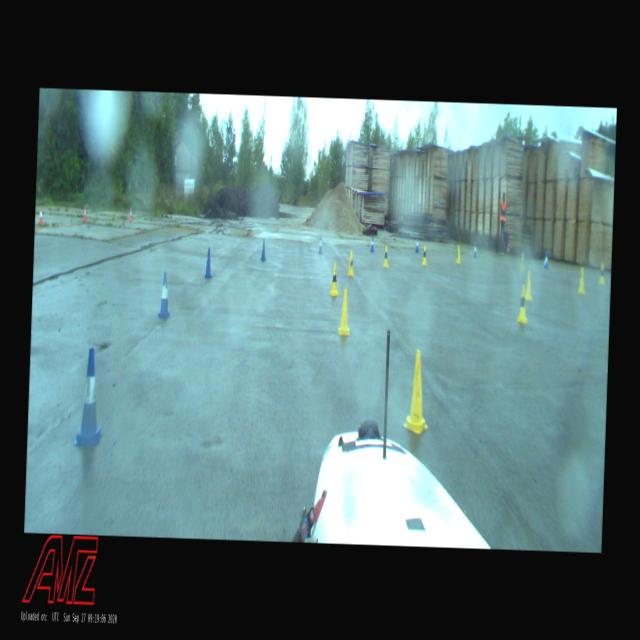blue_cone: (74, 348, 105, 444), (158, 272, 171, 318), (204, 247, 213, 278), (260, 238, 266, 261), (472, 244, 478, 258), (318, 235, 322, 253), (544, 252, 548, 268), (370, 236, 374, 252), (414, 237, 418, 251)
orange_cone: (38, 206, 43, 223), (82, 205, 87, 220), (128, 207, 132, 220)
yellow_cone: (402, 350, 432, 434), (337, 288, 352, 336), (516, 284, 529, 323), (328, 262, 341, 296), (524, 270, 534, 300), (578, 266, 586, 293), (346, 250, 354, 276), (383, 245, 389, 268), (455, 245, 462, 264), (599, 264, 605, 284), (422, 244, 427, 264), (520, 251, 524, 271)
